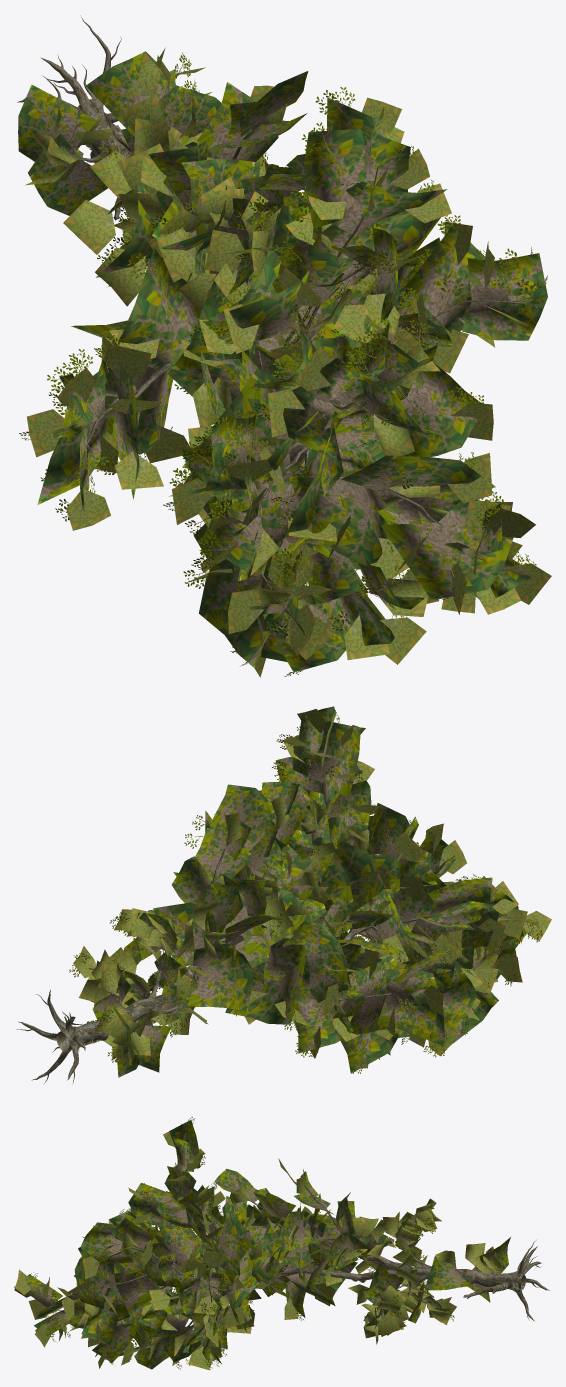
File: Broadleaf_Hero_Forest.fbx
3 renders of one model, top to bottom at view 1: azimuth 30°, elevation 25°; view 2: azimuth 150°, elevation 25°; view 3: azimuth 270°, elevation 25°, orthographic. The views are drawn at different scales.
Parts seen in each view (by area): view 1: LOD0; view 2: LOD0; view 3: LOD0.
Boxes of the visible parts, x1,y1,x2,y2 form: LOD0: [17, 15, 551, 677]; LOD0: [16, 706, 551, 1084]; LOD0: [14, 1117, 550, 1370].
Size of what is drawn, in the model's own units: 33.7 by 36.97 by 66.21.
